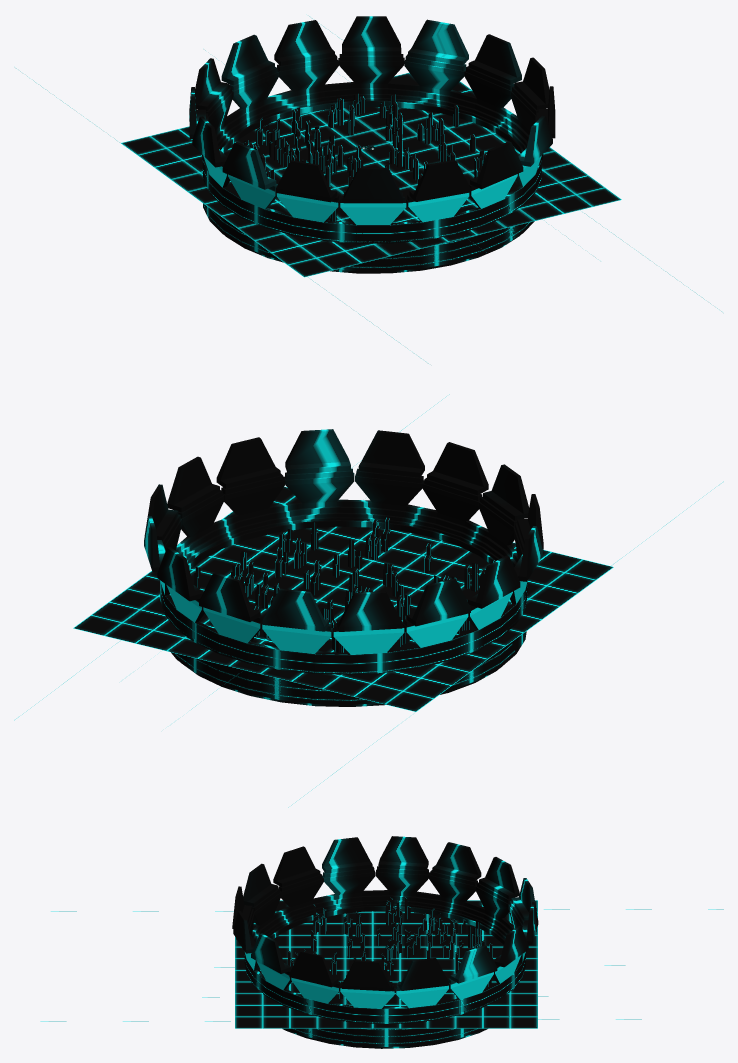
Rendered from Mapa ModeloBlend3.fbx.
3 views of the same model, one above another, from view 1: azimuth 30°, elevation 25°; view 2: azimuth 150°, elevation 25°; view 3: azimuth 270°, elevation 25° (orthographic). The views are drawn at different scales.
Parts seen in each view (by area): view 1: Coliseo, Plane; view 2: Coliseo, Plane; view 3: Coliseo, Plane.
Boxes of the visible parts, x1,y1,x2,y2 form: Coliseo: (189,16,555,273); Plane: (121,72,621,277); Coliseo: (144,429,543,706); Plane: (73,486,613,711); Coliseo: (232,836,538,1048); Plane: (235,900,537,1028).
Bounding box in the file's own units: 23289 × 7684 × 54074.
